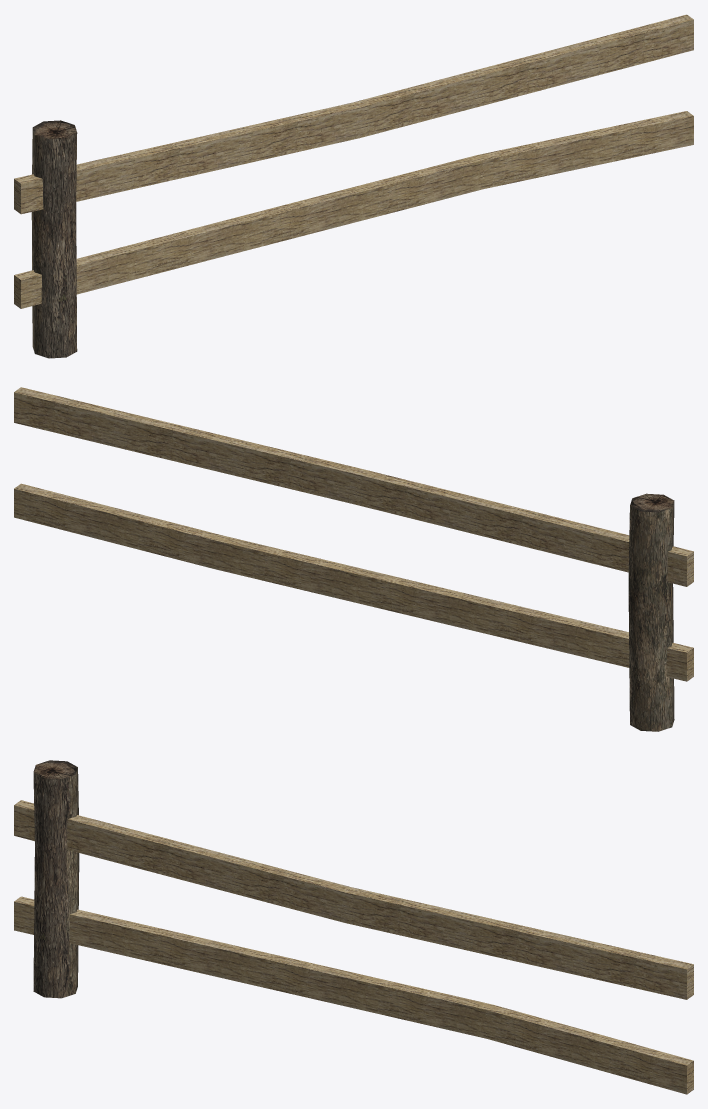
The model's file is woodenFence06.FBX.
3 renders of one model, top to bottom at view 1: azimuth 30°, elevation 25°; view 2: azimuth 150°, elevation 25°; view 3: azimuth 330°, elevation 25°, orthographic.
Parts seen in each view (by area): view 1: wooden_fence_large_1pole_L; view 2: wooden_fence_large_1pole_L; view 3: wooden_fence_large_1pole_L.
Part boxes in pixels (x1=…): wooden_fence_large_1pole_L: x1=14, y1=14, x2=693, y2=358; wooden_fence_large_1pole_L: x1=14, y1=387, x2=693, y2=731; wooden_fence_large_1pole_L: x1=14, y1=760, x2=693, y2=1094.
Bounding box in the file's own units: 482 × 150 × 30.09.
